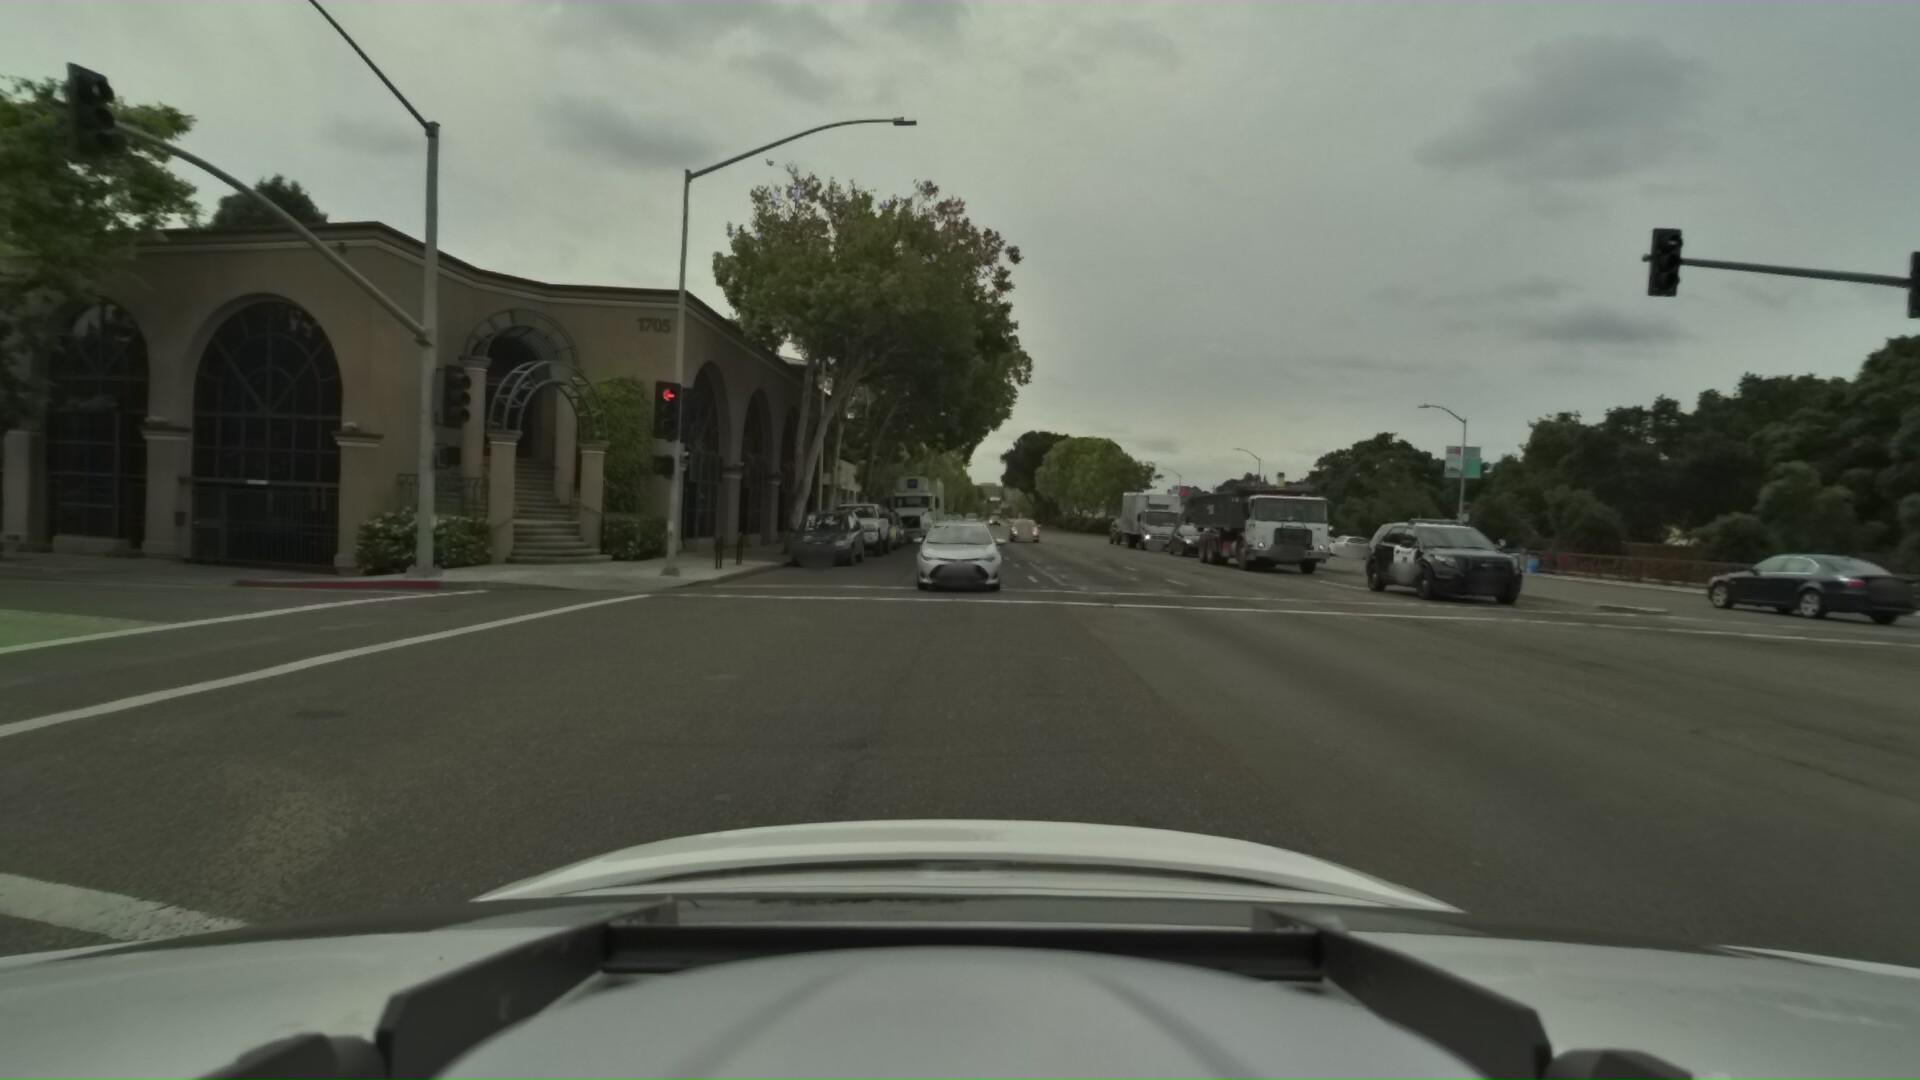car: (1662, 545, 1884, 626), (903, 510, 1005, 603), (785, 508, 869, 570), (820, 500, 891, 562), (1159, 522, 1216, 560), (853, 512, 899, 553), (1316, 531, 1367, 559), (1101, 516, 1142, 547), (1005, 512, 1039, 545), (1294, 533, 1337, 556)
emergency_vehicle: (1338, 517, 1520, 611)
other_vehicle: (1247, 512, 1317, 555)
truck: (1176, 472, 1331, 578), (882, 454, 945, 549), (1112, 487, 1189, 554)
